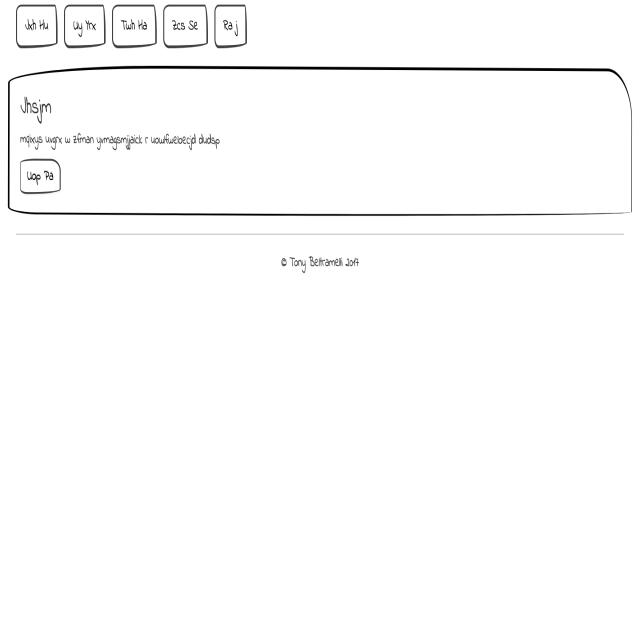Button: (17, 159, 65, 196)
Card: (4, 69, 634, 219)
Footer: (6, 230, 640, 640)
Heading 6: (20, 90, 58, 124)
Navigation Bar: (15, 7, 255, 51)
Paragraph: (17, 125, 234, 158)
